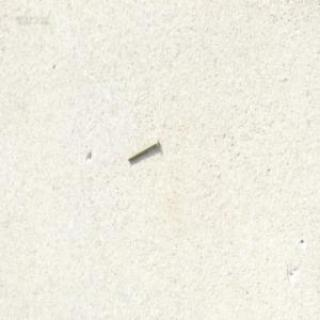Bolttrack_idkeyframe: (126, 136, 159, 162)
